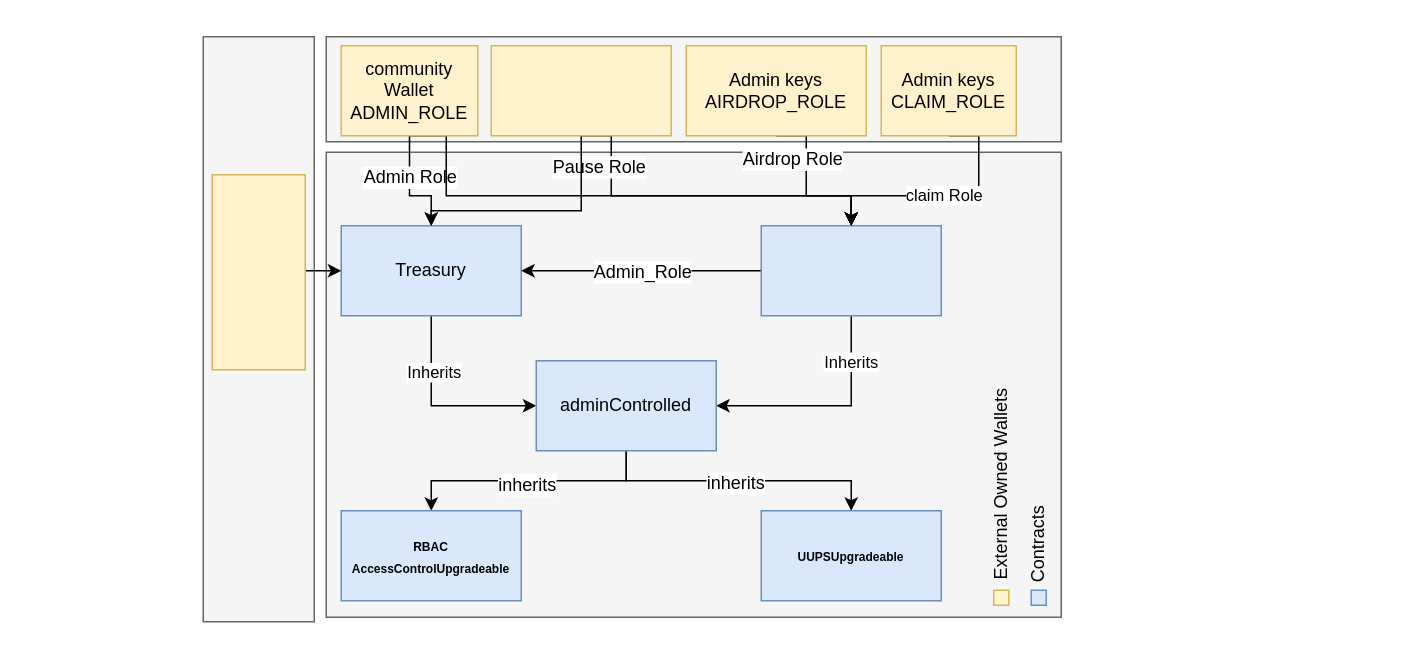
Some shapes in this 1416 by 651 pixel diagram are drawn without their labels. The shapes that lost their labels are listed below. From the top down, each one's centre as x and y in pixels, then its label:
the point at 580,90: Admin keys PAUSE_ROLE
the point at 258,271: Admin keys TREASURY MANAGER_ROLE
the point at 850,270: JetStaking
